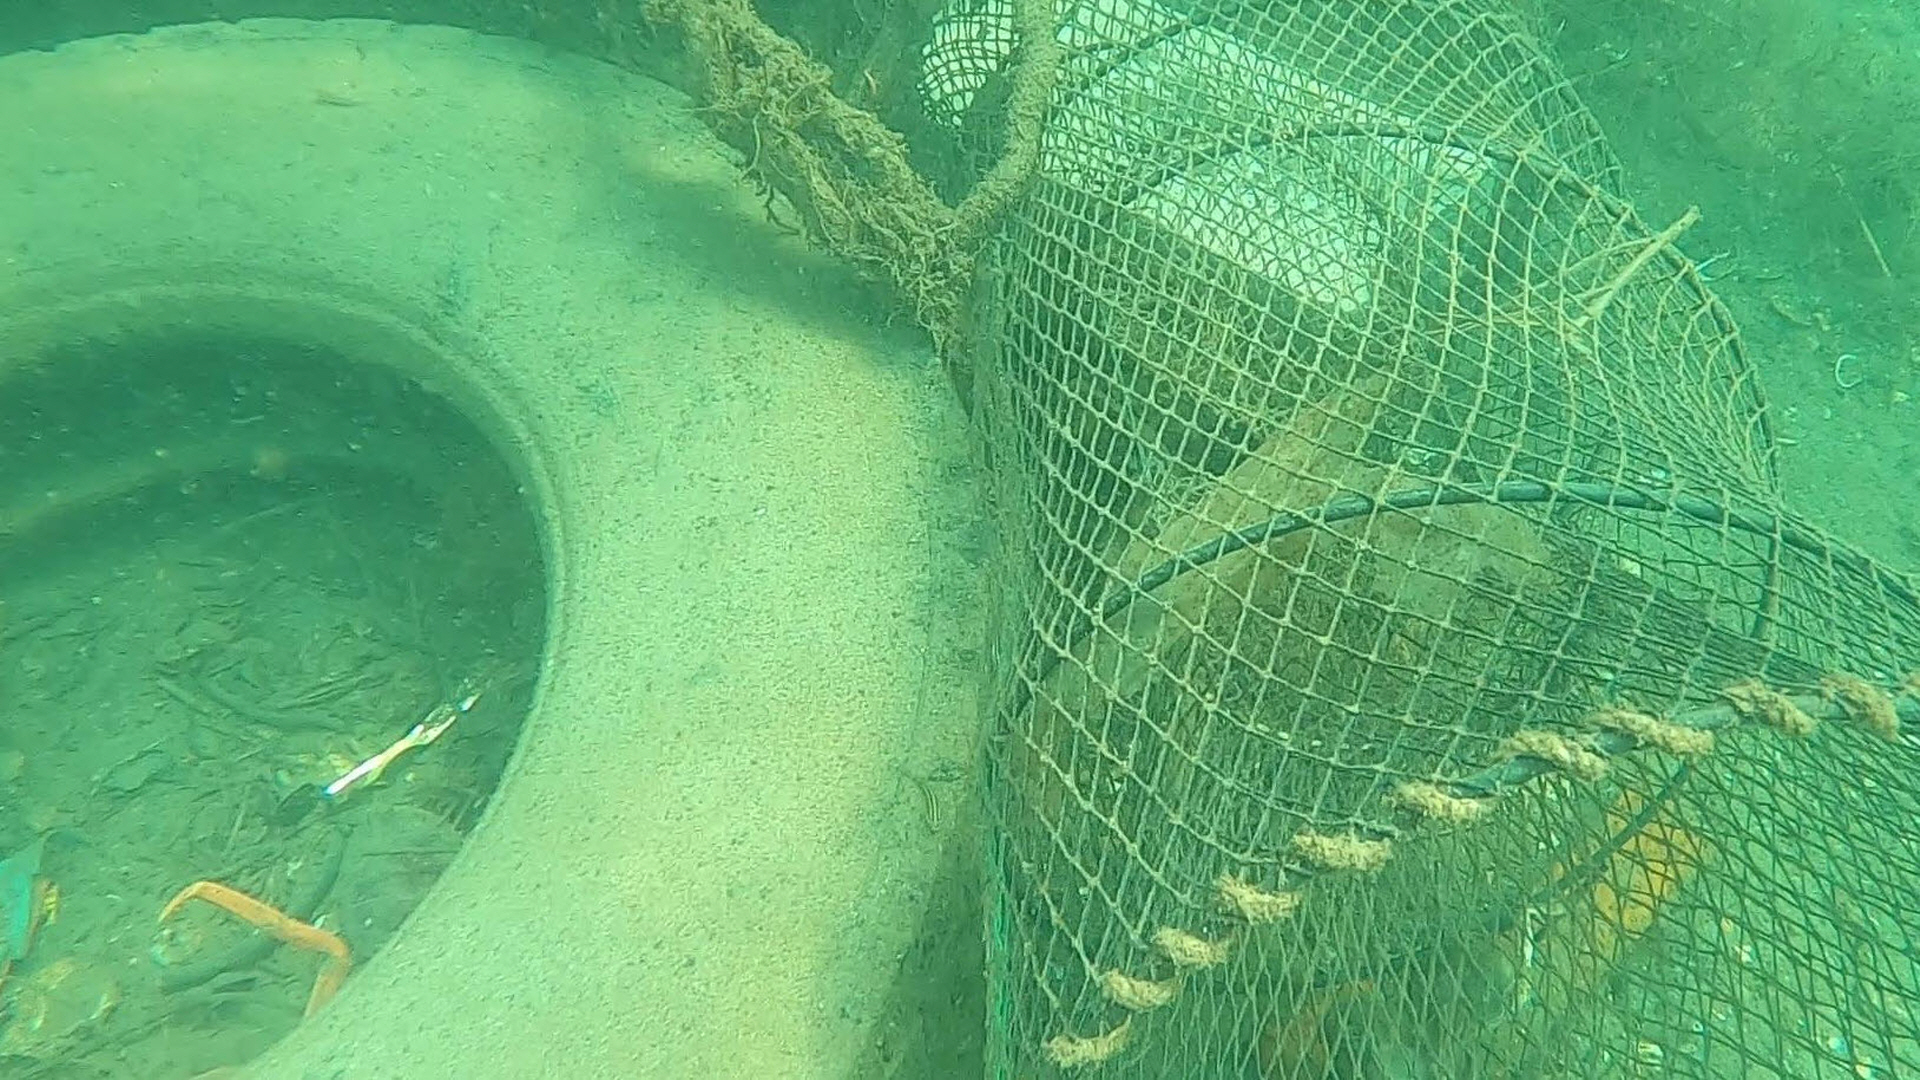spring fish trap: (865, 0, 1920, 1080)
tire: (0, 18, 989, 1080)
